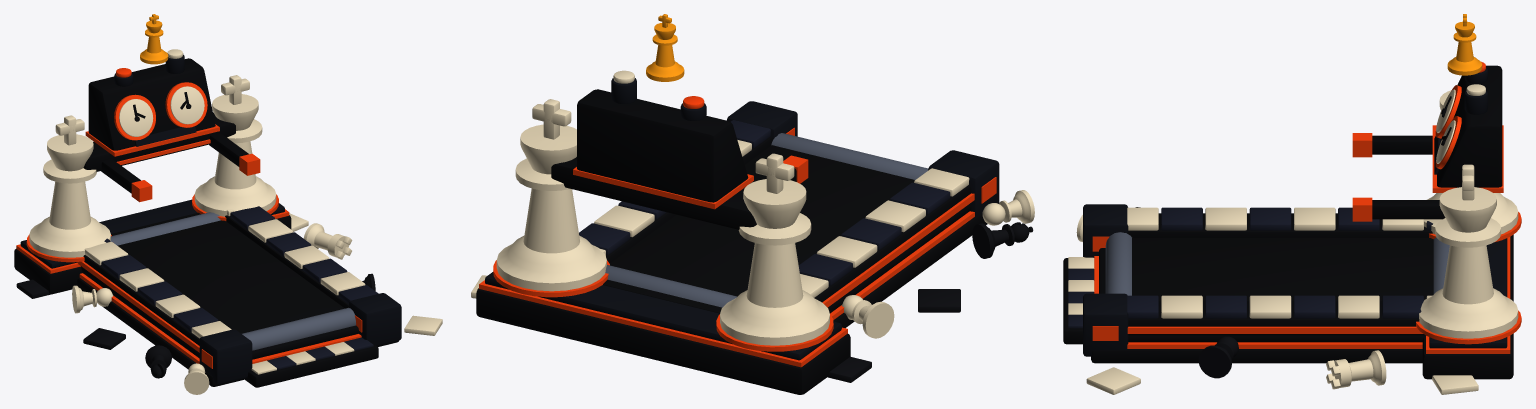
Rendered from KingsEndgame.obj.
3 views of the same model, side by side, from view 1: azimuth 30°, elevation 25°; view 2: azimuth 150°, elevation 25°; view 3: azimuth 270°, elevation 25° (orthographic). The views are drawn at different scales.
Visible parts, largest first — view 1: KingsEndgame_Chess, KingsEndgame_Body, KingsEndgame_Belt, KingsEndgame_Panel, KingsEndgame_Neon, KingsEndgame_Square, KingsEndgame_Steel, KingsEndgame_Spill, KingsEndgame_Prop; view 2: KingsEndgame_Body, KingsEndgame_Chess, KingsEndgame_Belt, KingsEndgame_Neon, KingsEndgame_Panel, KingsEndgame_Square, KingsEndgame_Steel, KingsEndgame_Spill, KingsEndgame_Prop; view 3: KingsEndgame_Body, KingsEndgame_Chess, KingsEndgame_Belt, KingsEndgame_Neon, KingsEndgame_Square, KingsEndgame_Panel, KingsEndgame_Steel, KingsEndgame_Prop, KingsEndgame_Spill.
Part boxes in pixels (<box>): KingsEndgame_Chess: <box>29,49,442,394</box>; KingsEndgame_Body: <box>14,58,398,387</box>; KingsEndgame_Belt: <box>111,212,344,333</box>; KingsEndgame_Panel: <box>20,55,401,384</box>; KingsEndgame_Neon: <box>16,68,362,368</box>; KingsEndgame_Square: <box>101,206,378,369</box>; KingsEndgame_Steel: <box>110,212,355,350</box>; KingsEndgame_Spill: <box>16,273,375,378</box>; KingsEndgame_Prop: <box>140,14,168,64</box>; KingsEndgame_Body: <box>476,89,987,394</box>; KingsEndgame_Chess: <box>471,70,1034,345</box>; KingsEndgame_Belt: <box>603,145,914,313</box>; KingsEndgame_Neon: <box>479,96,996,367</box>; KingsEndgame_Panel: <box>485,78,999,360</box>; KingsEndgame_Square: <box>579,120,950,285</box>; KingsEndgame_Steel: <box>605,133,928,307</box>; KingsEndgame_Spill: <box>827,222,1033,382</box>; KingsEndgame_Prop: <box>646,14,684,81</box>; KingsEndgame_Body: <box>1063,65,1513,379</box>; KingsEndgame_Chess: <box>1068,84,1518,394</box>; KingsEndgame_Belt: <box>1132,238,1433,301</box>; KingsEndgame_Neon: <box>1092,61,1521,353</box>; KingsEndgame_Square: <box>1068,207,1432,328</box>; KingsEndgame_Panel: <box>1083,67,1507,356</box>; KingsEndgame_Steel: <box>1105,232,1449,295</box>; KingsEndgame_Prop: <box>1447,14,1482,75</box>; KingsEndgame_Spill: <box>1135,207,1238,378</box>.
Size of the model in its own units: 12.64 by 10 by 14.09.
